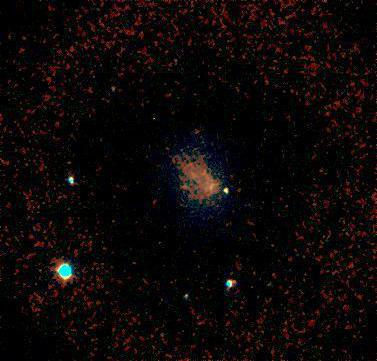star: (101, 78, 131, 108)
